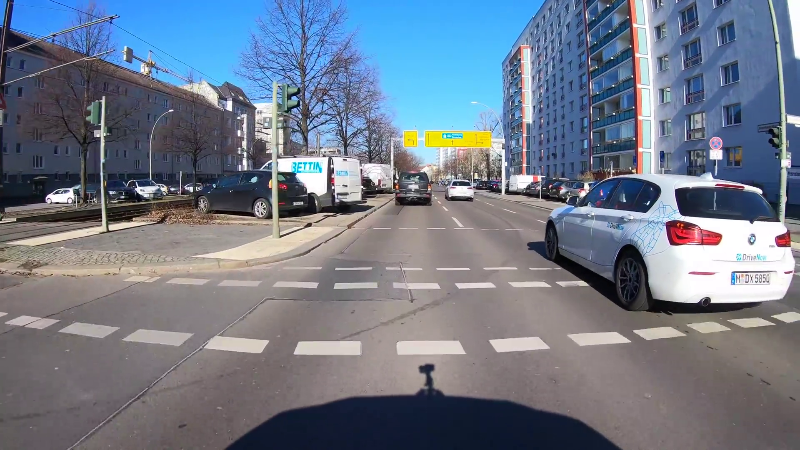Plate: (729, 270, 772, 286)
